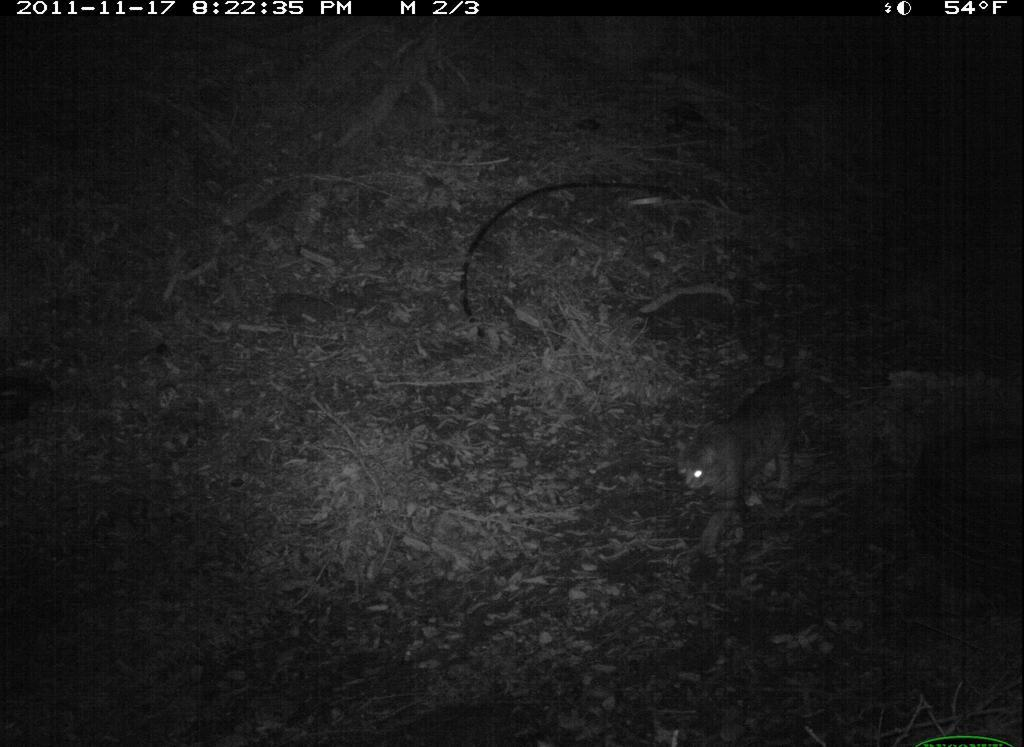cat: (664, 367, 824, 562)
